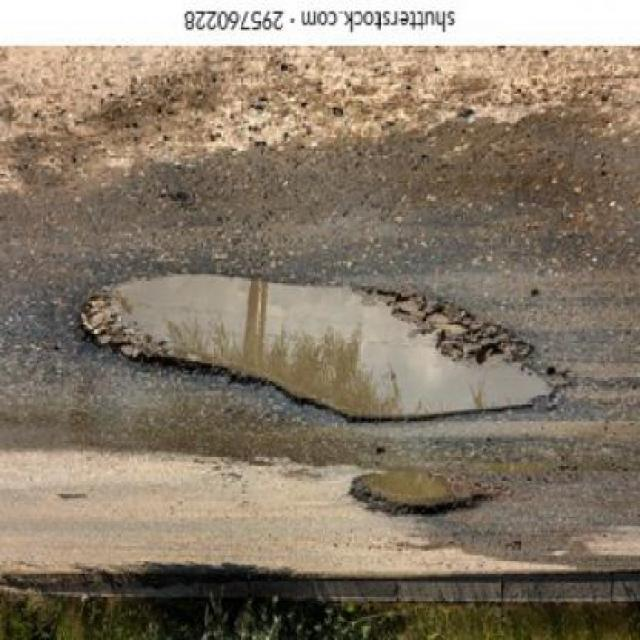Pothole: (81, 274, 550, 418), (350, 468, 491, 514)
